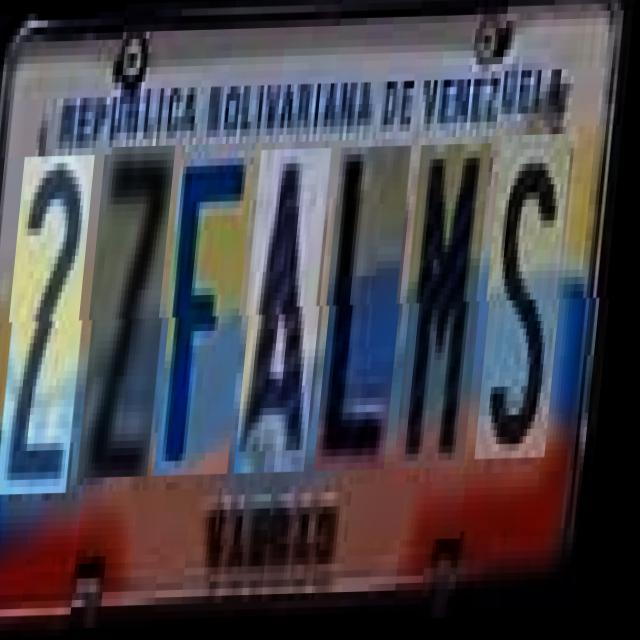2: (7, 148, 102, 488)
A: (244, 150, 338, 475)
F: (163, 145, 262, 478)
L: (324, 148, 418, 474)
M: (404, 146, 498, 472)
S: (484, 144, 578, 470)
Z: (87, 147, 182, 480)
